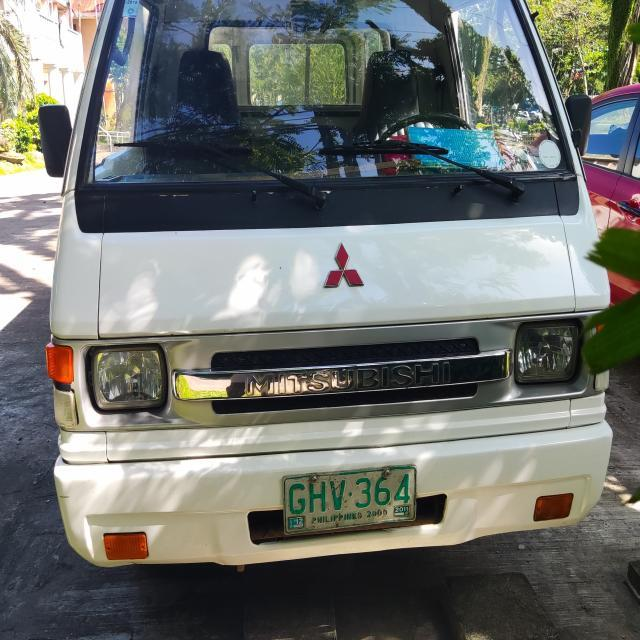LicensePlate: (275, 470, 427, 541)
